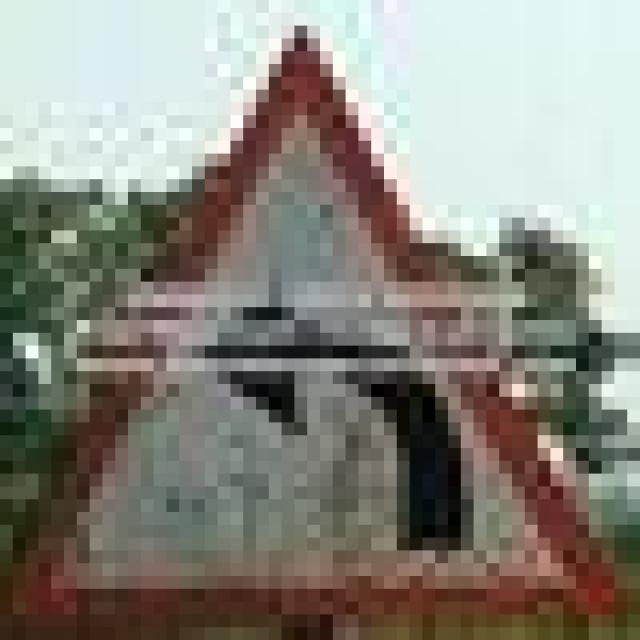LEFT_HAND_CURVE: (0, 13, 627, 589)
